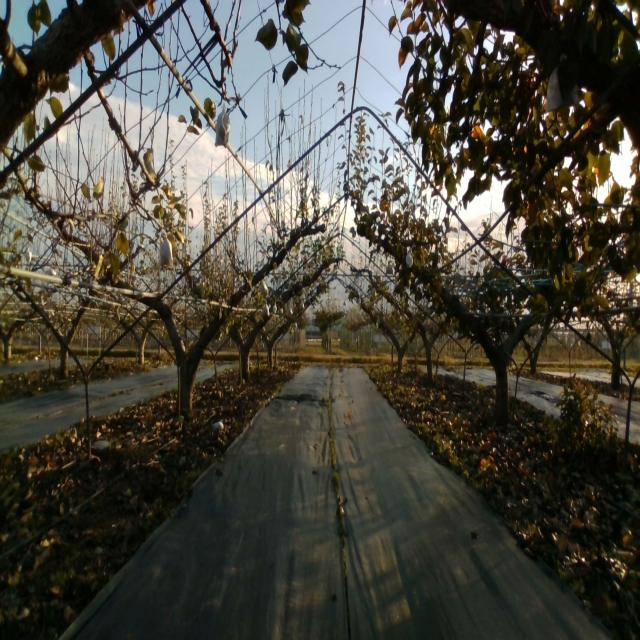pearbags: (214, 103, 230, 147), (156, 233, 174, 269)
